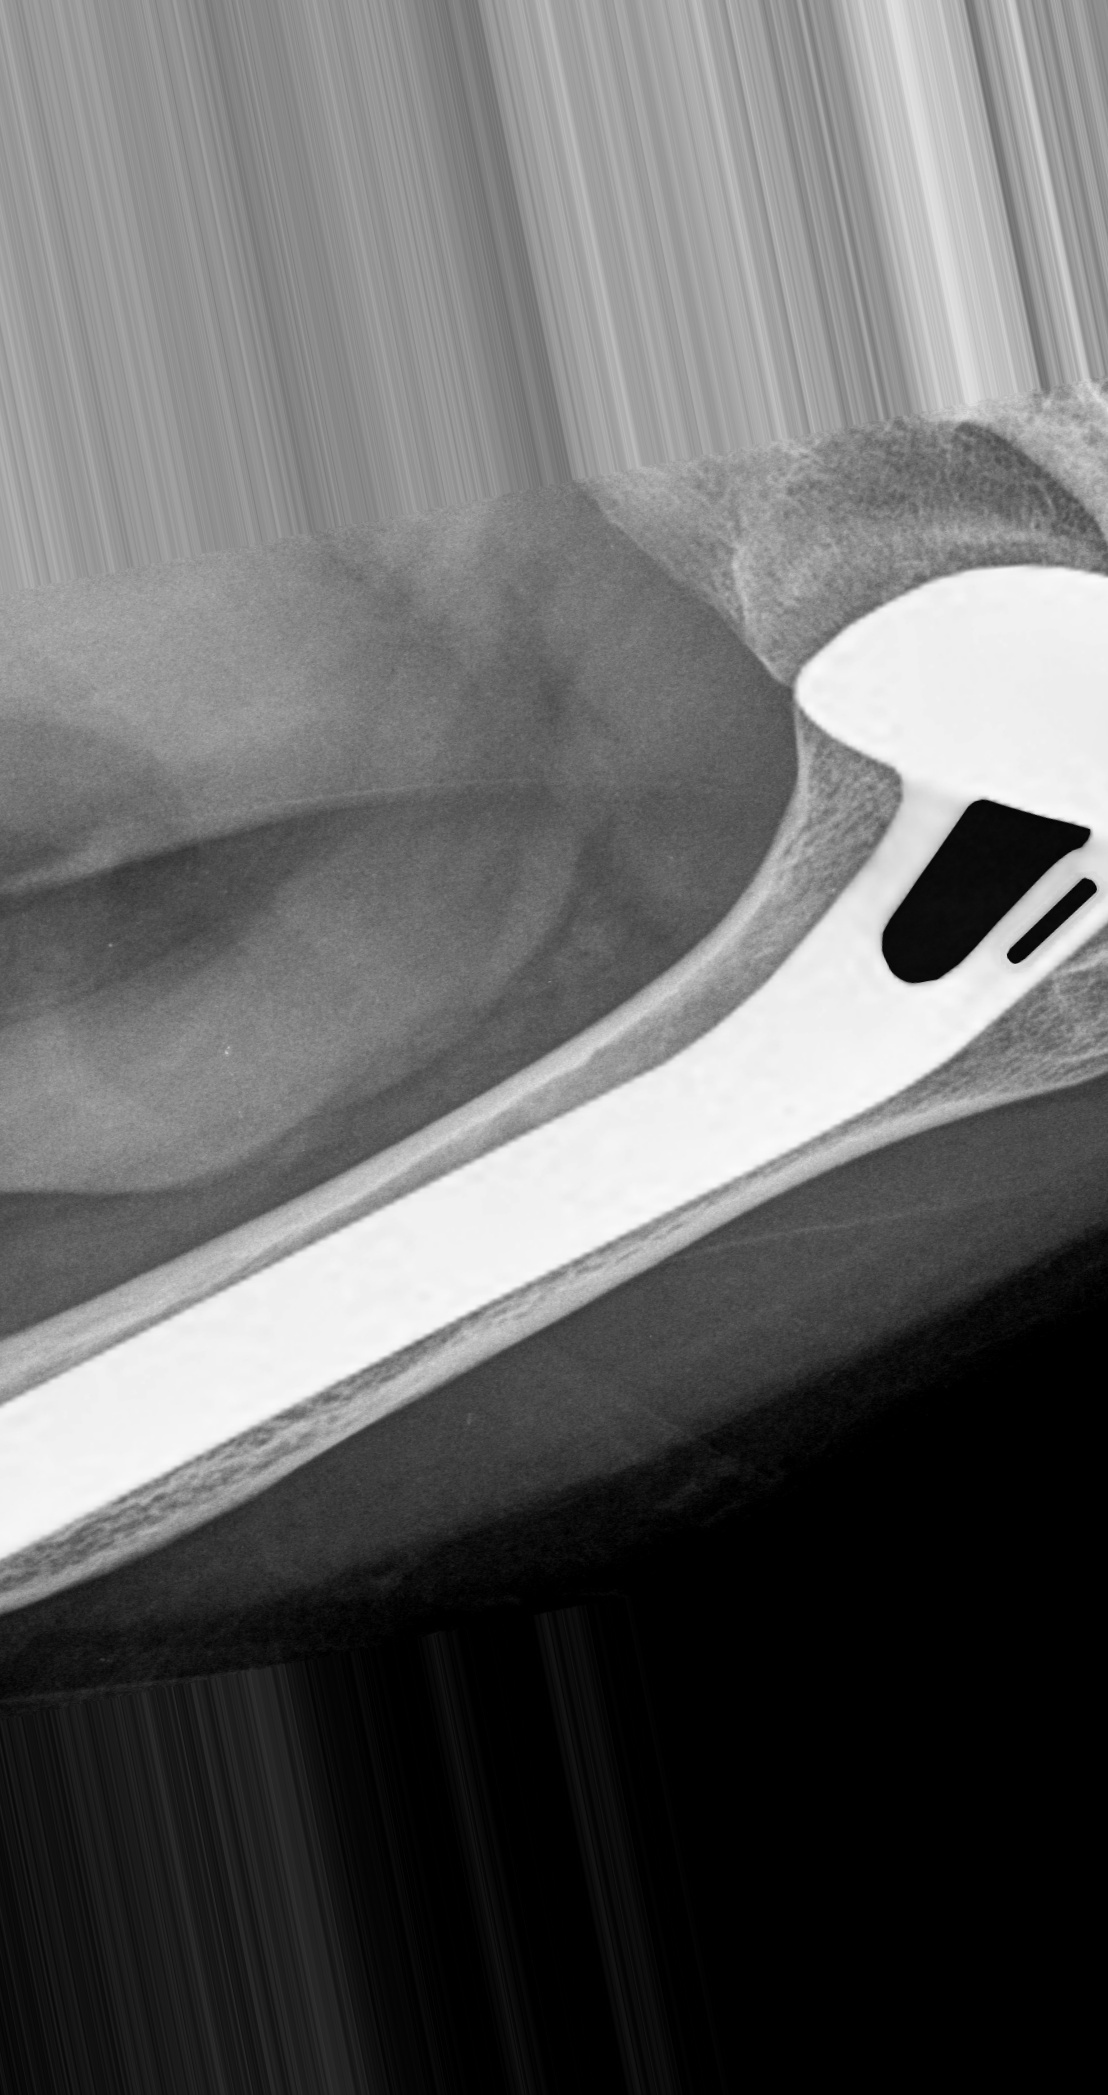Shoulder - AequalisFracture - Tornier: (770, 551, 1108, 1036)
